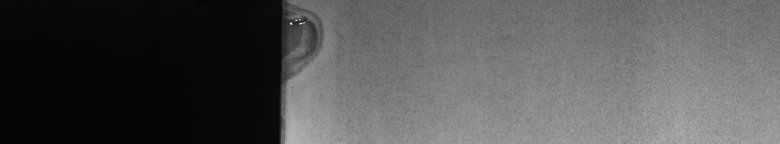hb: (292, 4, 331, 84)
